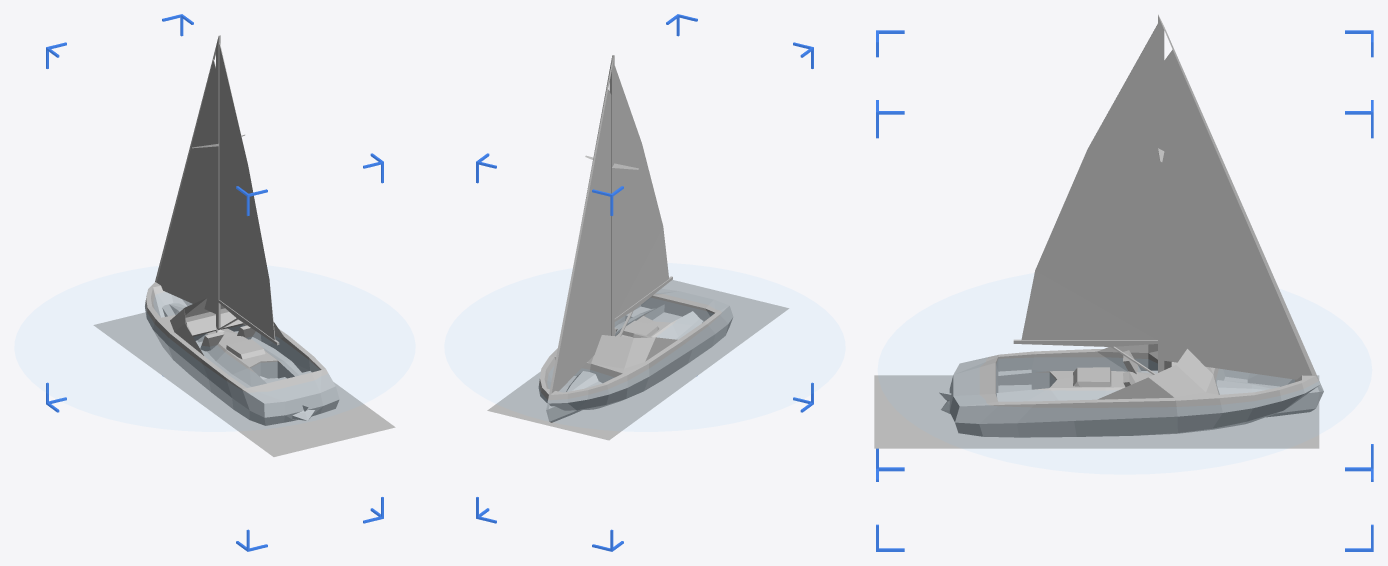
Rendered from SailboatS.glb.
3 renders of one model, left to right at view 1: azimuth 30°, elevation 25°; view 2: azimuth 150°, elevation 25°; view 3: azimuth 270°, elevation 25°, orthographic. The views are drawn at different scales.
Visible parts, largest first — view 1: AIS_Sailboat-Small-A001, AIS_PowerBoat-A001, SurfaceGraphic_whiteGlow014, BoundingBox; view 2: AIS_Sailboat-Small-A001, AIS_PowerBoat-A001, SurfaceGraphic_whiteGlow014, SurfaceGraphic_whiteGlow015, BoundingBox; view 3: AIS_Sailboat-Small-A001, AIS_PowerBoat-A001, SurfaceGraphic_whiteGlow014, BoundingBox.
Part boxes in pixels (x1,y1,x2,y2): AIS_Sailboat-Small-A001: (155,35,315,420); AIS_PowerBoat-A001: (145,282,339,425); SurfaceGraphic_whiteGlow014: (93,312,395,456); BoundingBox: (46,14,383,551); AIS_Sailboat-Small-A001: (546,55,703,422); AIS_PowerBoat-A001: (538,288,733,410); SurfaceGraphic_whiteGlow014: (487,280,789,440); SurfaceGraphic_whiteGlow015: (508,309,756,431); BoundingBox: (476,14,813,551); AIS_Sailboat-Small-A001: (941,14,1323,417); AIS_PowerBoat-A001: (949,344,1320,437); SurfaceGraphic_whiteGlow014: (874,375,1319,448); BoundingBox: (876,30,1373,551).
Size of the model in its own units: 5.06 by 5.72 by 5.11.
